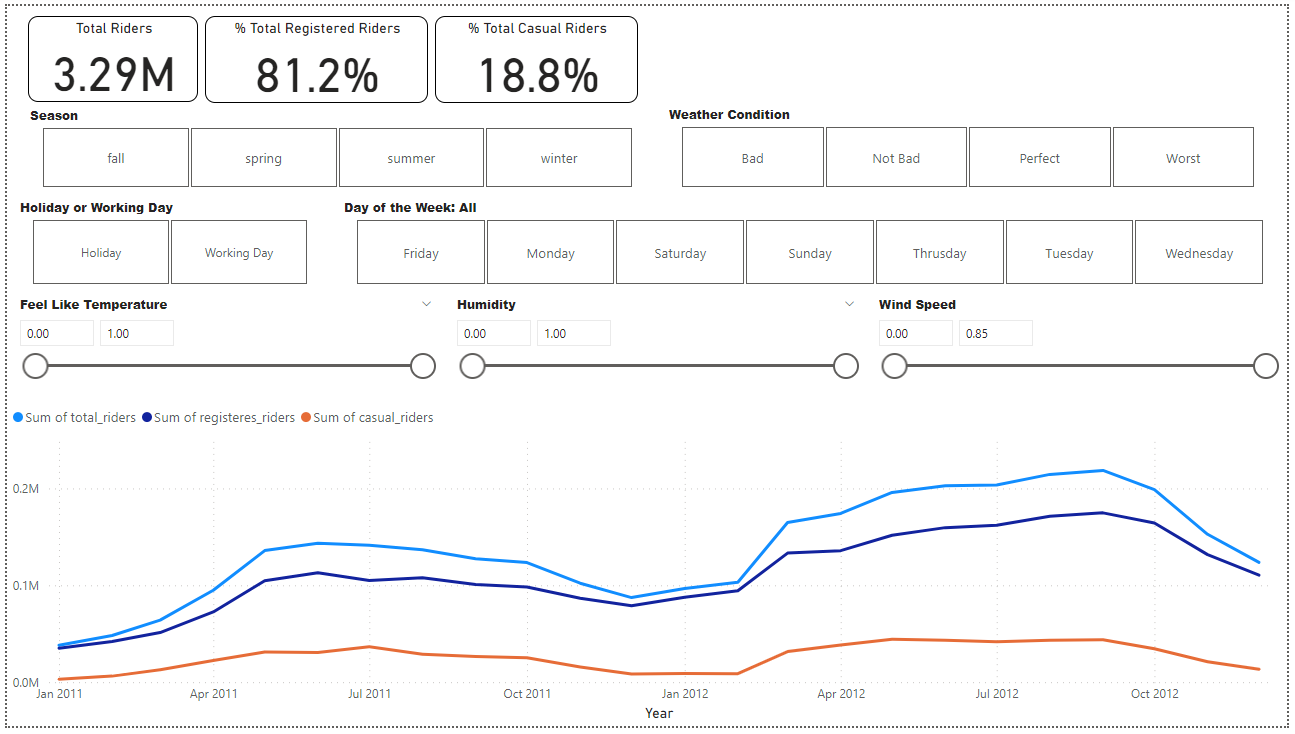

The page's visual inventory and layout, read from the dashboard file:
{"tool":"powerbi","page":{"name":"Page 1","canvas":[1280,720],"ordinal":0},"visuals":[{"type":"card","title":"% Total Casual Riders","fields":{"Values":["key_measures.total_casual_rider_percent"]},"box":[427.7,9.7,203.7,86.8],"z":0},{"type":"lineChart","fields":{"Y":["Sum(fact_hour.total_riders)","Sum(fact_hour.registeres_riders)","Sum(fact_hour.casual_riders)"],"Category":["dim_date.date_.Variation.Date Hierarchy.Year","dim_date.date_.Variation.Date Hierarchy.Month"]},"box":[0,390.8,1280.8,329.2],"z":1000},{"type":"slicer","title":"Holiday or Working Day","fields":{"Values":["dim_date.working_day"]},"box":[0,188.1,324.4,96.5],"z":2000},{"type":"slicer","title":"Day of the Week","fields":{"Values":["dim_date.week_day"]},"box":[324.4,188.1,955.2,96.5],"z":3000},{"type":"slicer","title":"Season","fields":{"Values":["dim_date.season"]},"box":[9.6,96.5,639.2,91.7],"z":4000},{"type":"slicer","title":"Feel Like Temperature","fields":{"Values":["fact_hour.feel_like_temperature"]},"box":[0,284.6,436.6,106.1],"z":5000},{"type":"slicer","title":"Humidity","fields":{"Values":["fact_hour.humidity"]},"box":[436.6,284.6,423.3,106.1],"z":6000},{"type":"slicer","title":"Wind Speed","fields":{"Values":["fact_hour.wind_speed"]},"box":[858.7,284.6,420.9,106.1],"z":7000},{"type":"slicer","title":"Weather Condition","fields":{"Values":["dim_weather.weather_condition"]},"box":[648.8,95.3,622.5,92.4],"z":8000},{"type":"card","title":"% Total Registered Riders","fields":{"Values":["key_measures.total_registered_riders"]},"box":[198.4,9.7,222.3,86.8],"z":9000},{"type":"card","title":"Total Riders","fields":{"Values":["Sum(fact_hour.total_riders)"]},"box":[21.4,9.7,169.2,86.6],"z":10000}]}

Visuals, with their boxes in screenshot pixels (x1, y1, x2, y2), scaled from the page's 1280x720 canvas onto the 1295x734 screenshot:
"% Total Casual Riders" card: [x1=433, y1=10, x2=639, y2=98]
lineChart - Sum(fact_hour.total_riders) x Sum(fact_hour.registeres_riders): [x1=0, y1=398, x2=1294, y2=733]
"Holiday or Working Day" slicer: [x1=0, y1=192, x2=328, y2=290]
"Day of the Week" slicer: [x1=328, y1=192, x2=1294, y2=290]
"Season" slicer: [x1=10, y1=98, x2=656, y2=192]
"Feel Like Temperature" slicer: [x1=0, y1=290, x2=442, y2=398]
"Humidity" slicer: [x1=442, y1=290, x2=870, y2=398]
"Wind Speed" slicer: [x1=869, y1=290, x2=1294, y2=398]
"Weather Condition" slicer: [x1=656, y1=97, x2=1286, y2=191]
"% Total Registered Riders" card: [x1=201, y1=10, x2=426, y2=98]
"Total Riders" card: [x1=22, y1=10, x2=193, y2=98]
